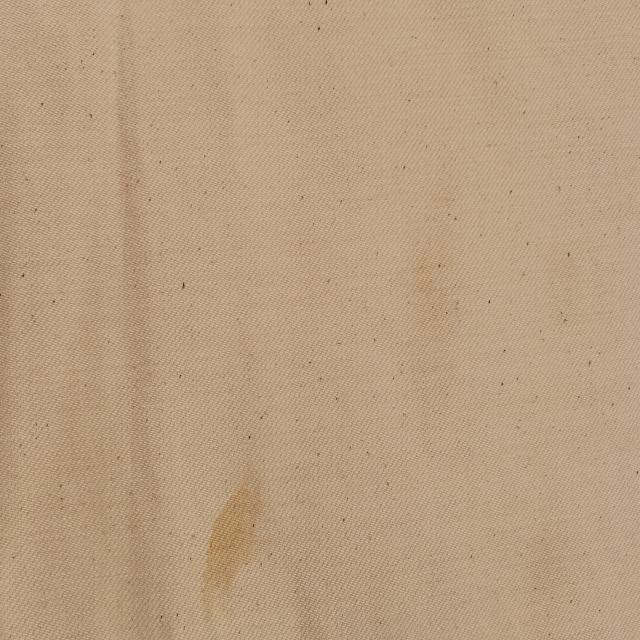taaaches: (194, 460, 263, 636)
